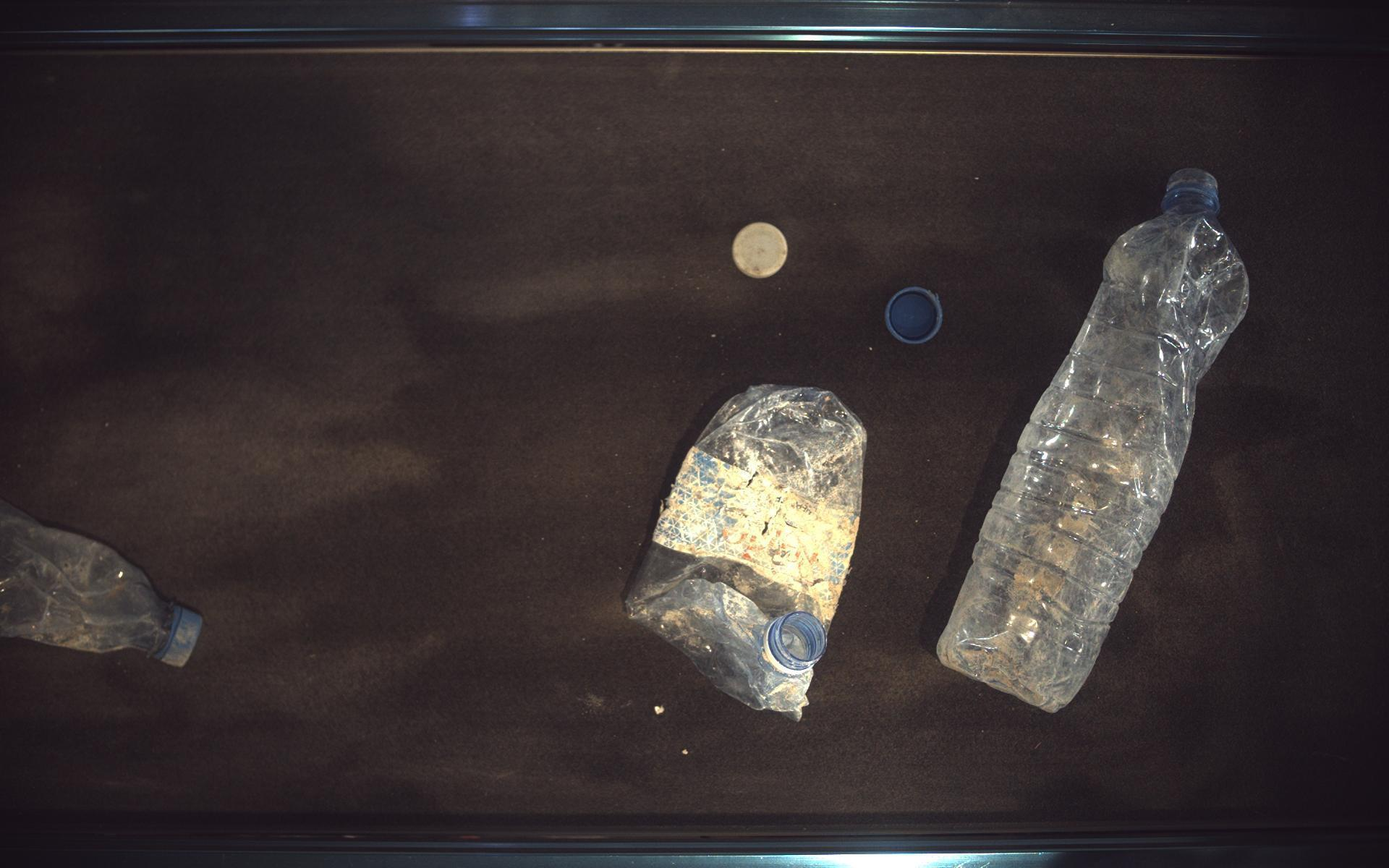general_w: (940, 167, 1252, 713), (626, 385, 868, 721), (1, 501, 202, 668), (886, 286, 946, 345), (734, 221, 789, 278)
